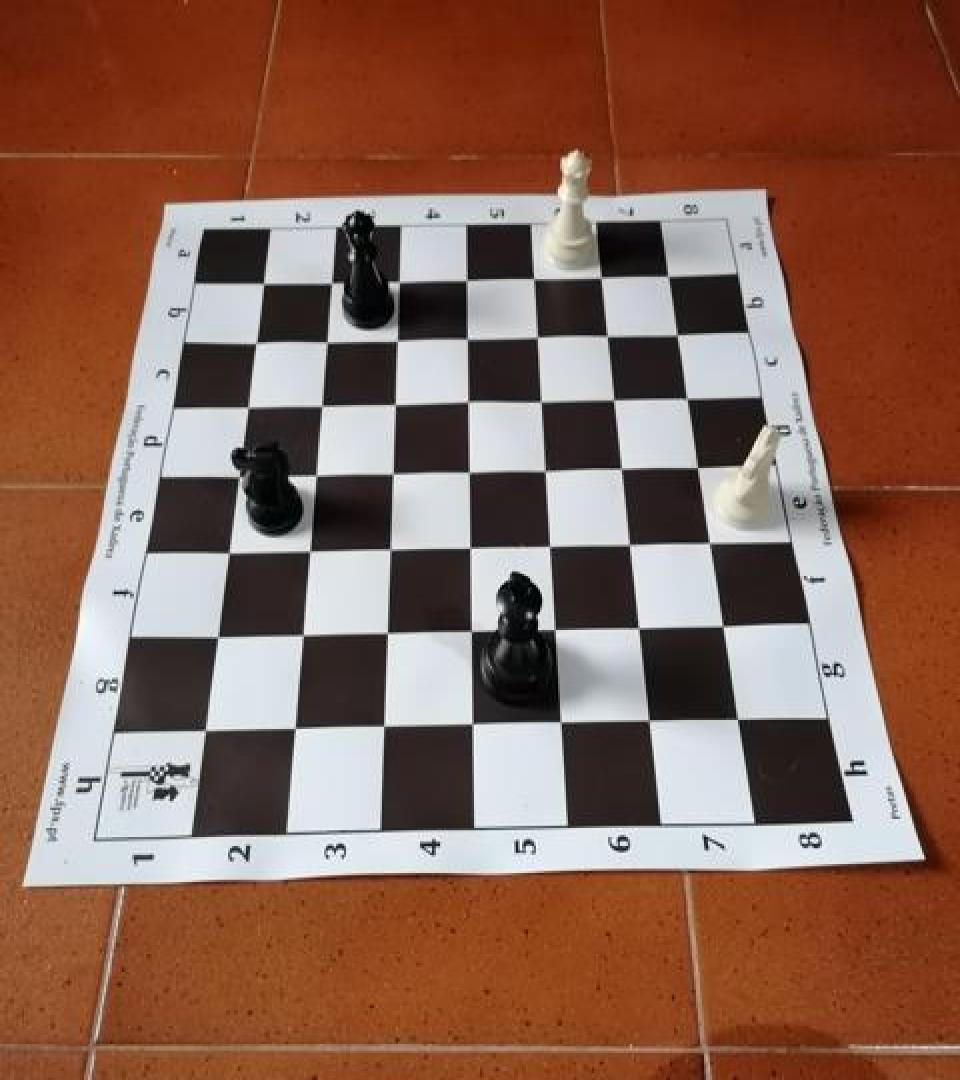xcorner: (709, 608, 741, 645), (371, 615, 403, 652), (287, 617, 319, 654), (654, 259, 686, 295), (587, 260, 619, 296), (520, 262, 552, 298), (452, 263, 484, 299), (385, 264, 417, 300), (318, 266, 350, 302), (250, 268, 282, 304), (663, 317, 695, 353), (593, 318, 625, 354), (523, 320, 555, 356), (453, 322, 485, 358), (383, 323, 415, 359), (313, 324, 345, 360), (242, 326, 274, 362), (673, 380, 705, 416), (600, 382, 632, 418), (454, 385, 486, 421), (380, 387, 412, 423), (307, 388, 339, 424), (234, 389, 266, 425), (684, 449, 716, 485), (607, 451, 639, 487), (531, 452, 563, 488), (454, 454, 486, 490), (378, 456, 410, 492), (301, 458, 333, 494), (224, 459, 256, 495), (696, 526, 728, 562), (615, 526, 647, 562), (535, 529, 567, 565), (455, 530, 487, 566), (375, 532, 407, 568), (294, 533, 326, 569), (214, 536, 246, 572), (624, 610, 656, 646), (540, 612, 572, 648), (456, 614, 488, 650), (203, 620, 235, 656), (723, 701, 755, 737), (634, 703, 666, 739), (546, 704, 578, 740), (457, 706, 489, 742), (368, 709, 400, 745), (279, 711, 311, 747), (190, 712, 222, 748), (527, 384, 559, 419)
